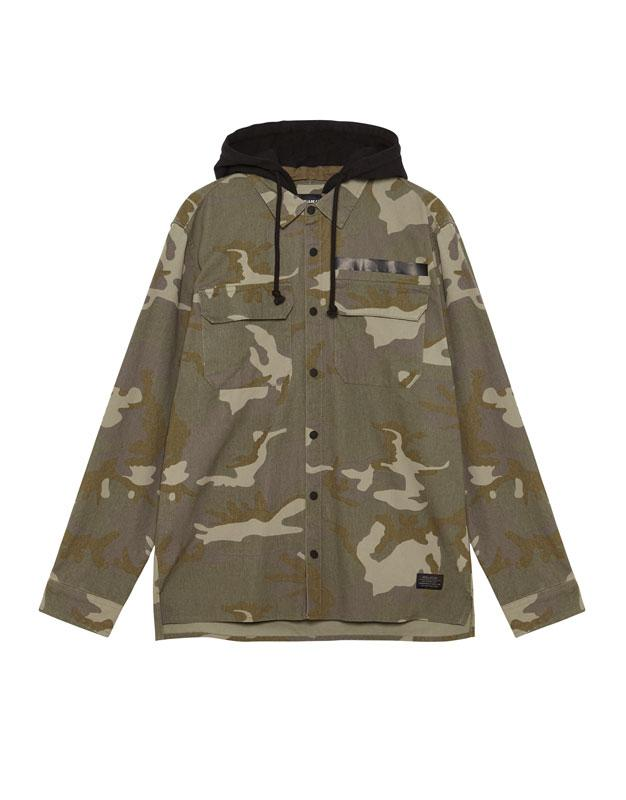teeshirt: (33, 113, 594, 666)
